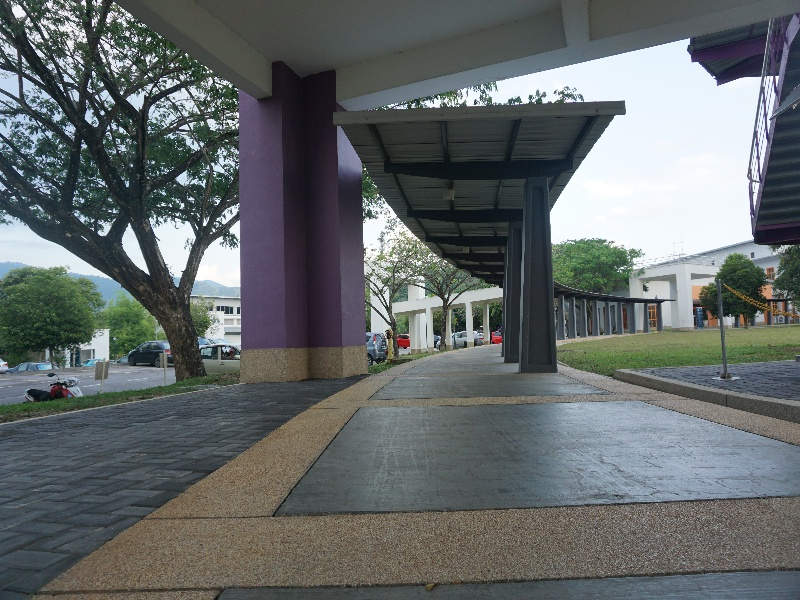Block D Pillar 6: (1, 1, 800, 479)
pillar: (224, 44, 375, 401)
